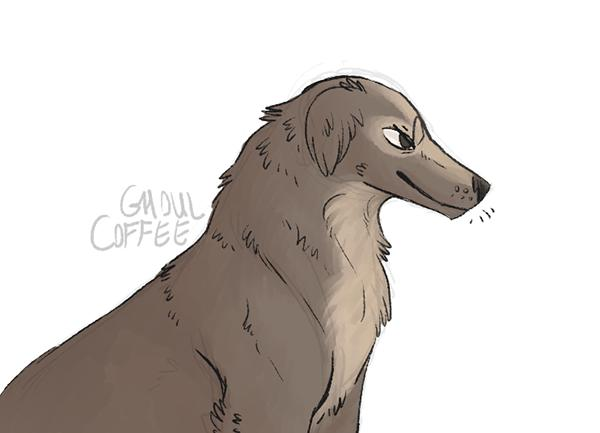dog: (1, 75, 500, 425)
